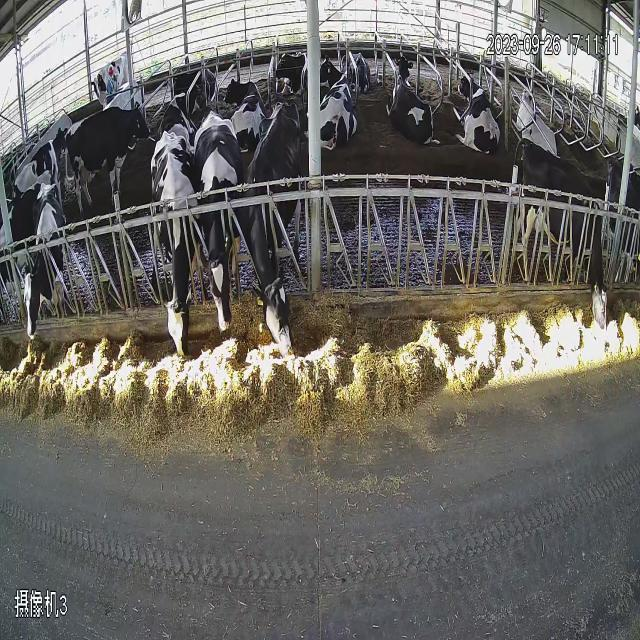feeding: (508, 138, 636, 406), (24, 193, 70, 357)
lying down: (245, 111, 333, 463), (154, 15, 320, 142), (190, 109, 242, 445), (152, 120, 202, 464), (386, 11, 442, 182), (451, 40, 513, 186), (314, 44, 362, 170), (518, 60, 568, 170)
standing: (62, 109, 152, 221), (6, 118, 67, 205), (84, 54, 152, 106)
